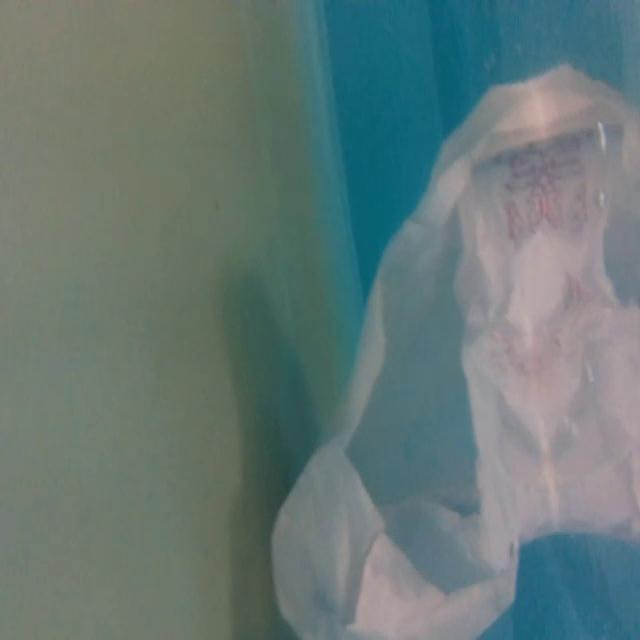plastic bags: (267, 59, 640, 638)
